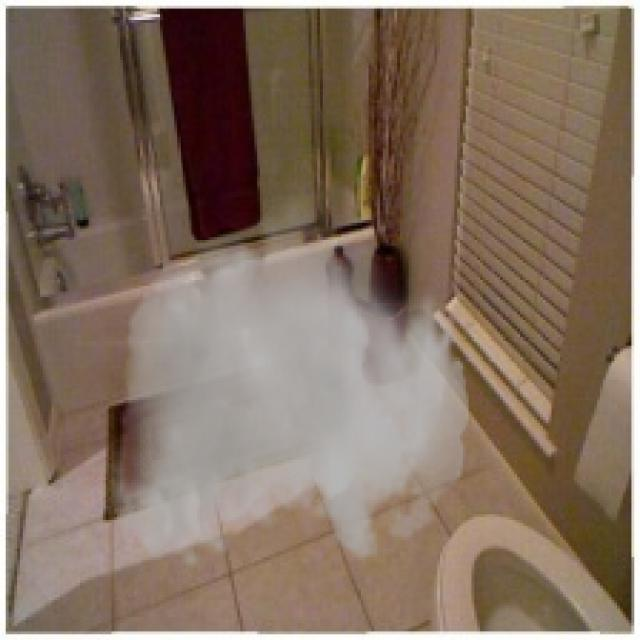Smoke: (109, 188, 468, 572)
